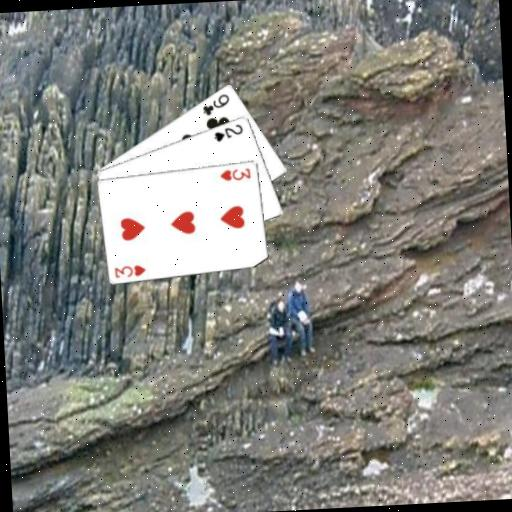2S: (211, 121, 246, 143)
3H: (112, 261, 148, 279), (217, 166, 252, 183)
9C: (199, 90, 232, 117)
